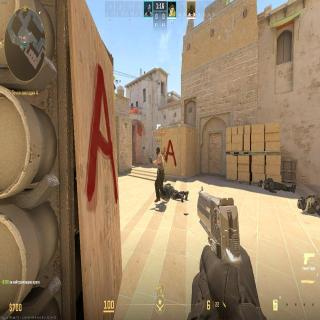T-Body: (152, 146, 168, 204)
T-Head: (156, 147, 162, 155)
